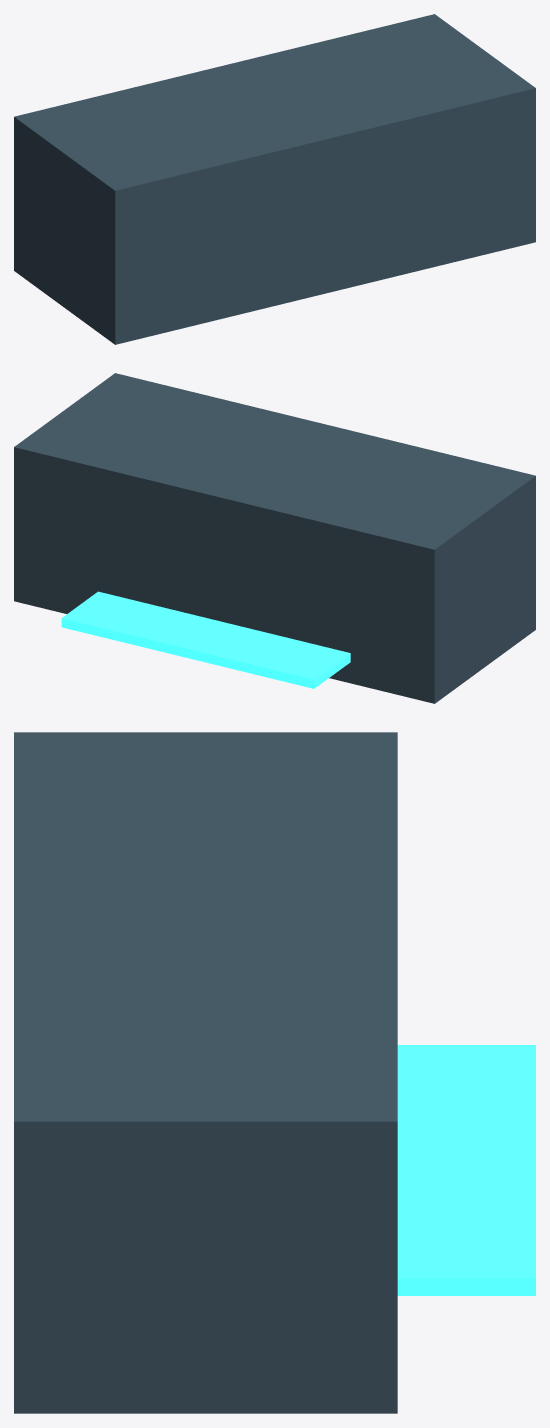
File: control-console.glb
The picture shows the model from 3 angles, top to bottom: view 1: azimuth 30°, elevation 25°; view 2: azimuth 150°, elevation 25°; view 3: azimuth 270°, elevation 25°; orthographic projection. The views are drawn at different scales.
Parts seen in each view (by area): view 1: Console Base; view 2: Console Base, Console Screen; view 3: Console Base, Console Screen.
Boxes of the visible parts, left/top/right/bottom form: Console Base: left=14, top=14, right=535, bottom=344; Console Base: left=14, top=373, right=535, bottom=703; Console Screen: left=61, top=591, right=350, bottom=688; Console Base: left=14, top=732, right=397, bottom=1413; Console Screen: left=397, top=1045, right=535, bottom=1295.
Bounding box in the file's own units: 2.4 × 0.95 × 1.36.
